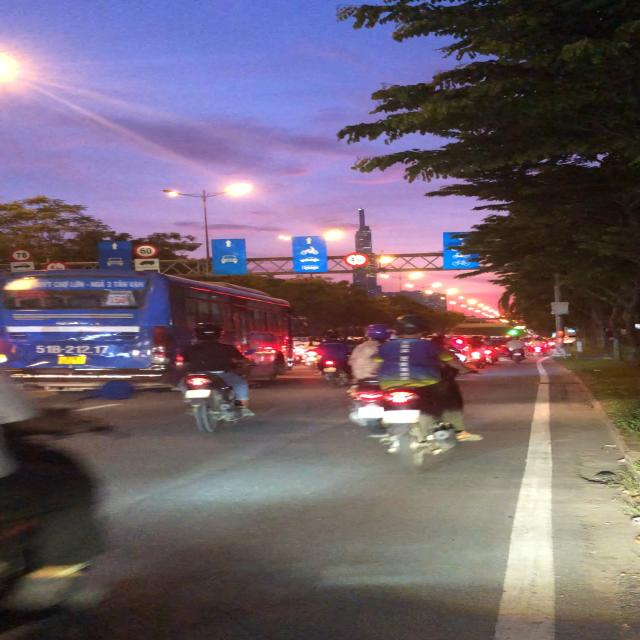Bien bao han che chieu cao: (342, 250, 370, 268)
Bien bao toc do toi da cho phep: (6, 246, 36, 261), (132, 243, 159, 258)
